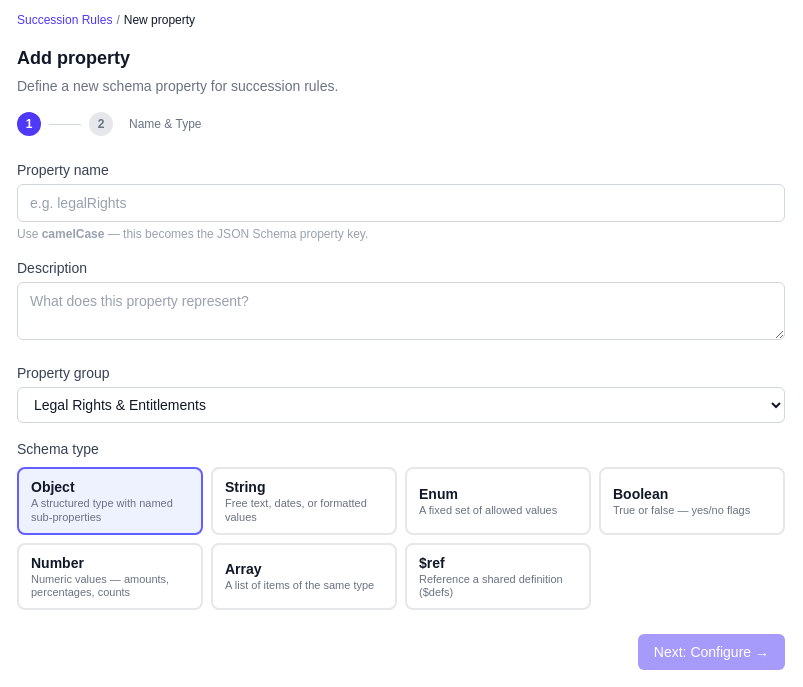
Test: AddPropertyWizard › shows enum editor when Enum type is selected
Type "status" into the field labelled "Property name" at (401, 203), box [17,184,785,222]
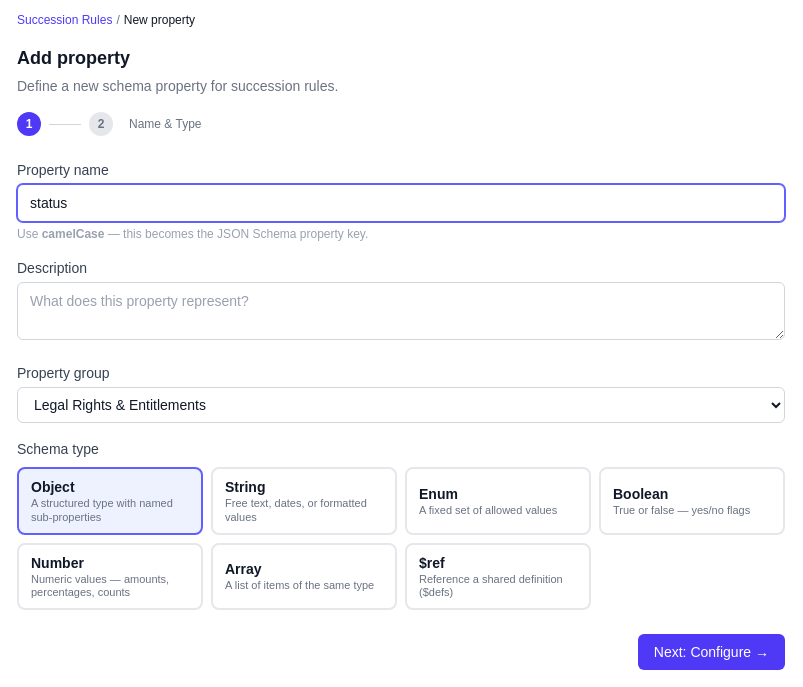
Click the text "Enum" at (438, 494), box [419,486,458,502]
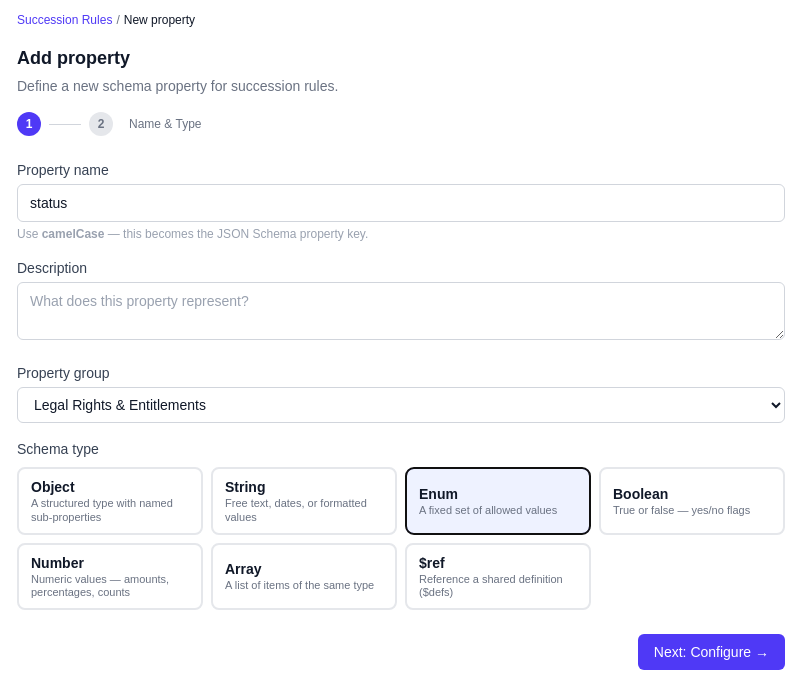
Click the button "Next: Configure →" at (711, 652), box [638,634,785,670]
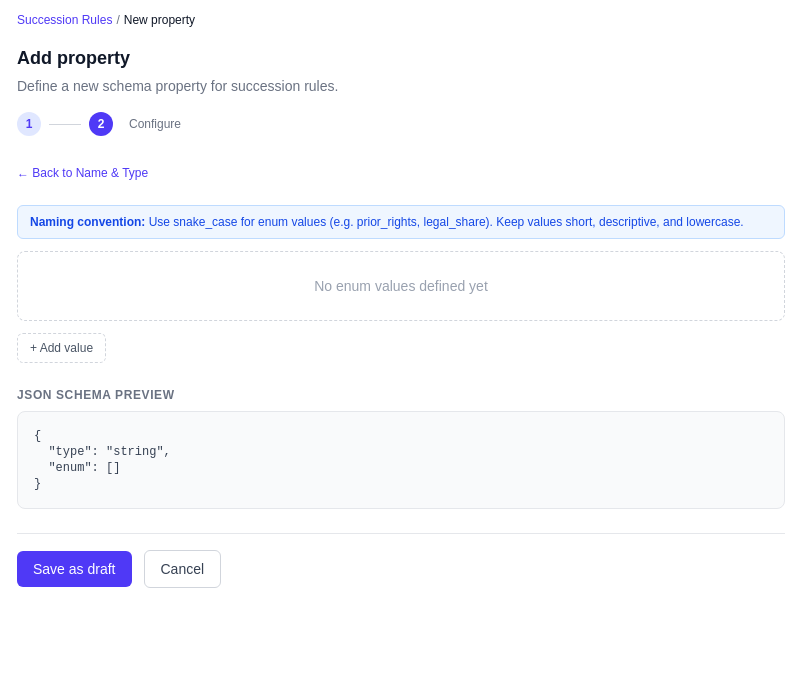
Expected: the button "+ Add value" is shown, [17,333,106,363]
Expected: the text "Naming convention:" is shown, [30,215,145,229]
